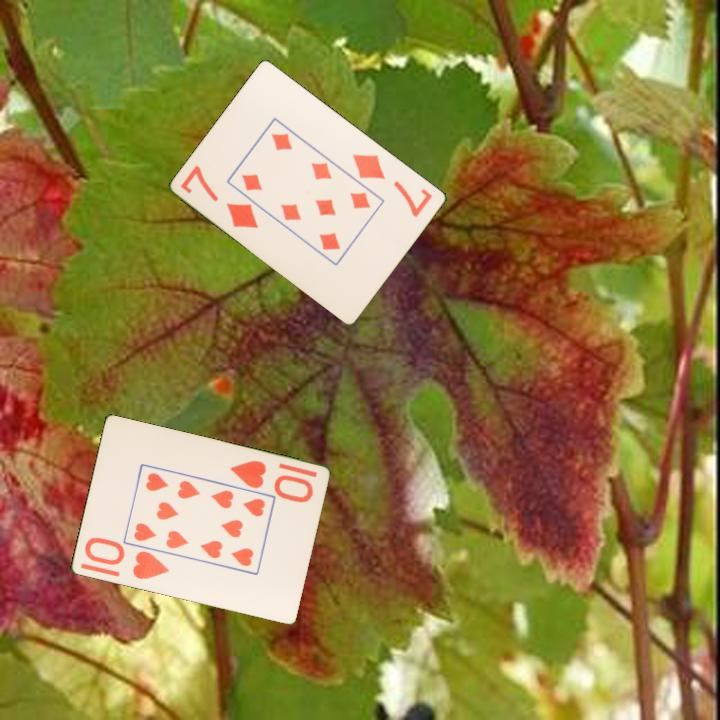10h: (80, 535, 172, 582), (226, 457, 316, 504)
7d: (349, 150, 436, 220), (177, 161, 262, 231)
